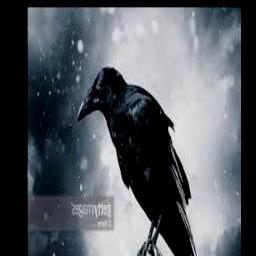Crow: (78, 65, 203, 256)
